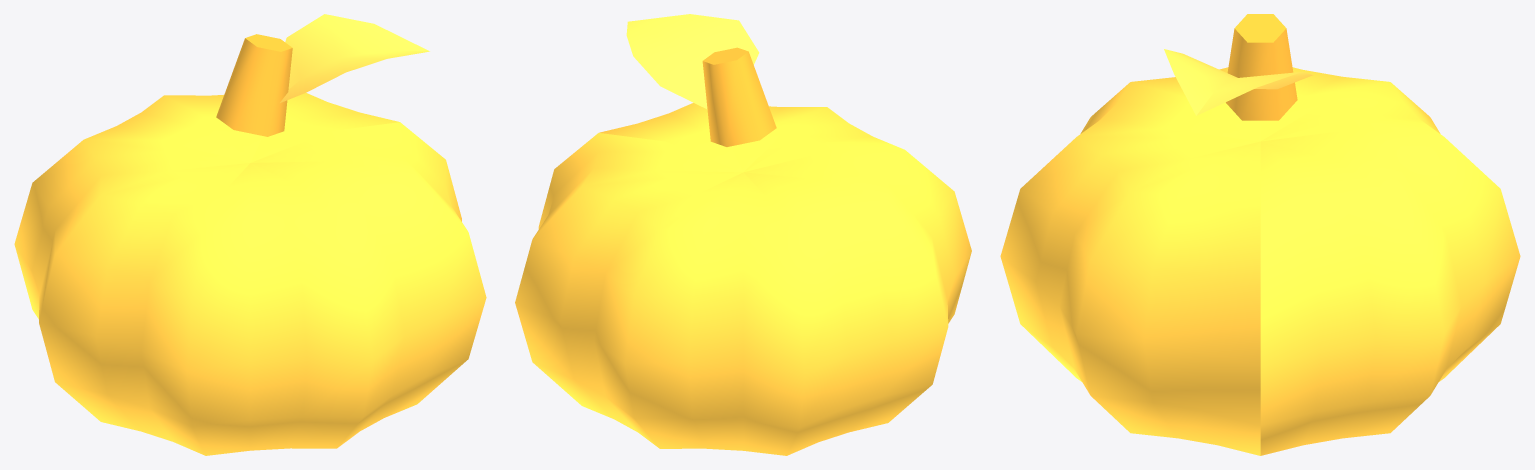
The model's file is mini_pumpkin3d.67abe3ba.glb.
3 renders of one model, left to right at view 1: azimuth 30°, elevation 25°; view 2: azimuth 150°, elevation 25°; view 3: azimuth 270°, elevation 25°, orthographic. The views are drawn at different scales.
Parts seen in each view (by area): view 1: track_mini_pumpkin; view 2: track_mini_pumpkin; view 3: track_mini_pumpkin.
Boxes of the visible parts, <box> form: track_mini_pumpkin: <box>14,14,486,455</box>; track_mini_pumpkin: <box>515,14,971,455</box>; track_mini_pumpkin: <box>1000,14,1520,455</box>.
Bounding box in the file's own units: 0.28 × 0.2292 × 0.28.
